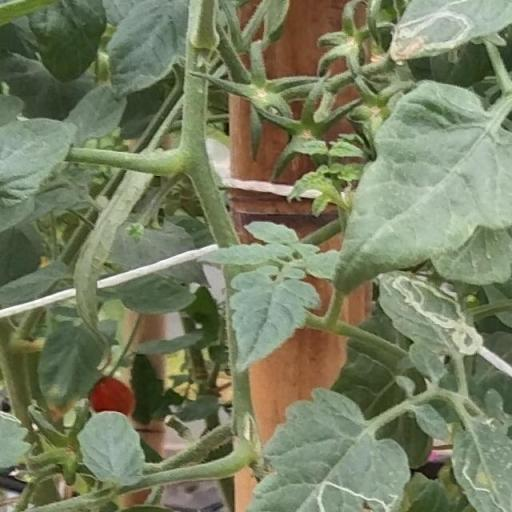Healthy: (329, 76, 512, 294), (228, 268, 324, 374), (76, 408, 150, 489)
Leaf_Miner: (248, 387, 410, 512), (378, 270, 484, 356), (388, 0, 512, 64), (449, 418, 512, 512)
